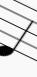note: (0, 1, 35, 60)
